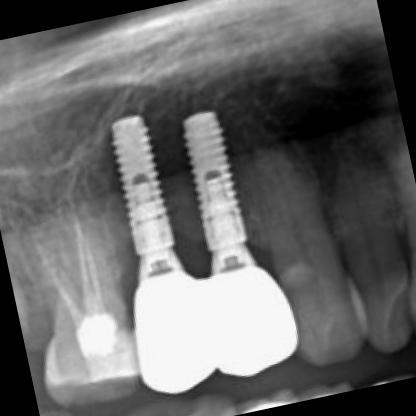ITI: (163, 84, 281, 258), (87, 106, 190, 258)
